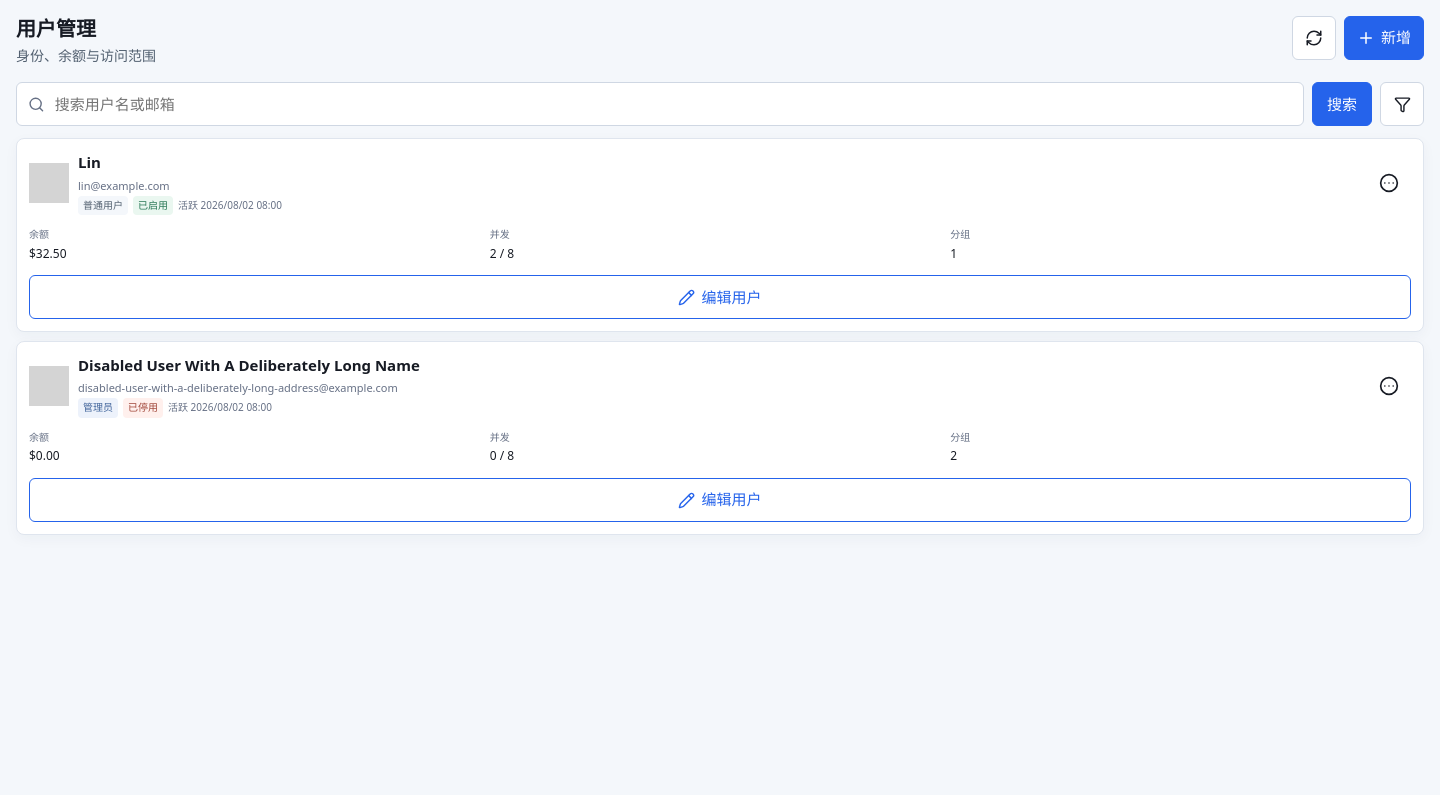
MobileAdminUsersView › invalidates a same-user detail request when the drawer closes and reopens
Step 1. Click the button with test id "user-menu-trigger-7" → [1389, 183], box [1367,161,1411,205]
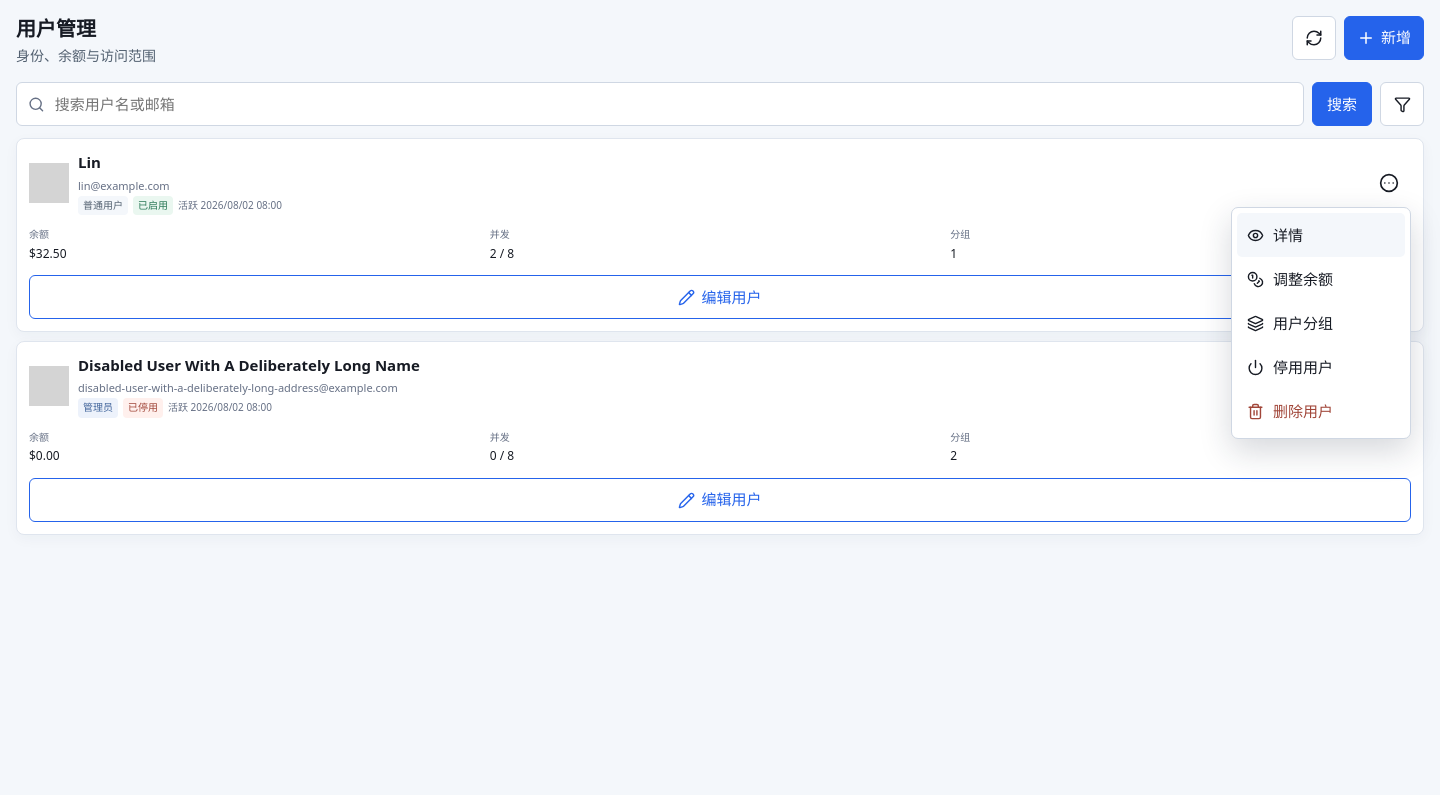
Step 2. Click the menu item with test id "detail-user-7" → [1321, 235], box [1237,213,1405,257]
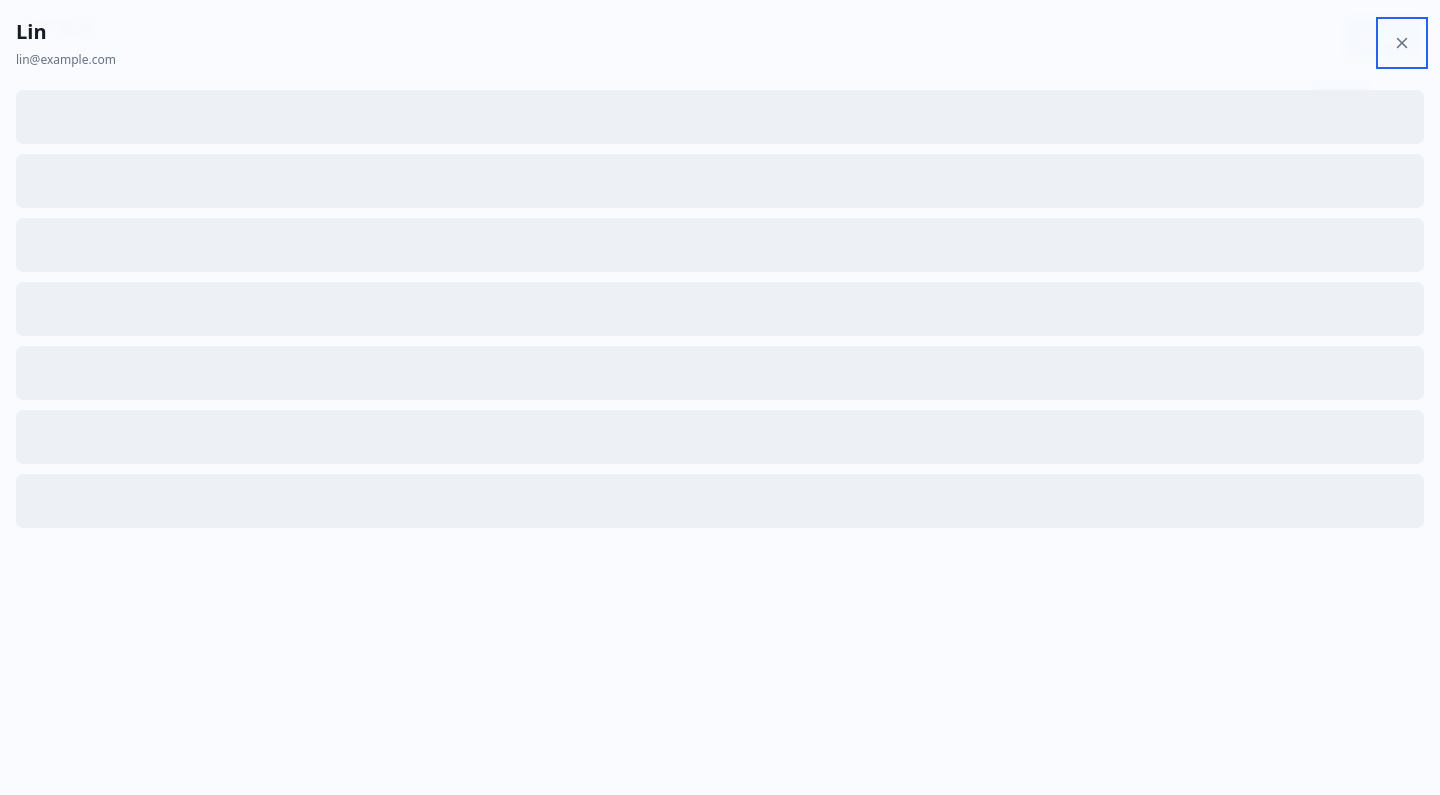
Step 3. Click the button named "关闭" → [1402, 43], box [1380,21,1424,65]
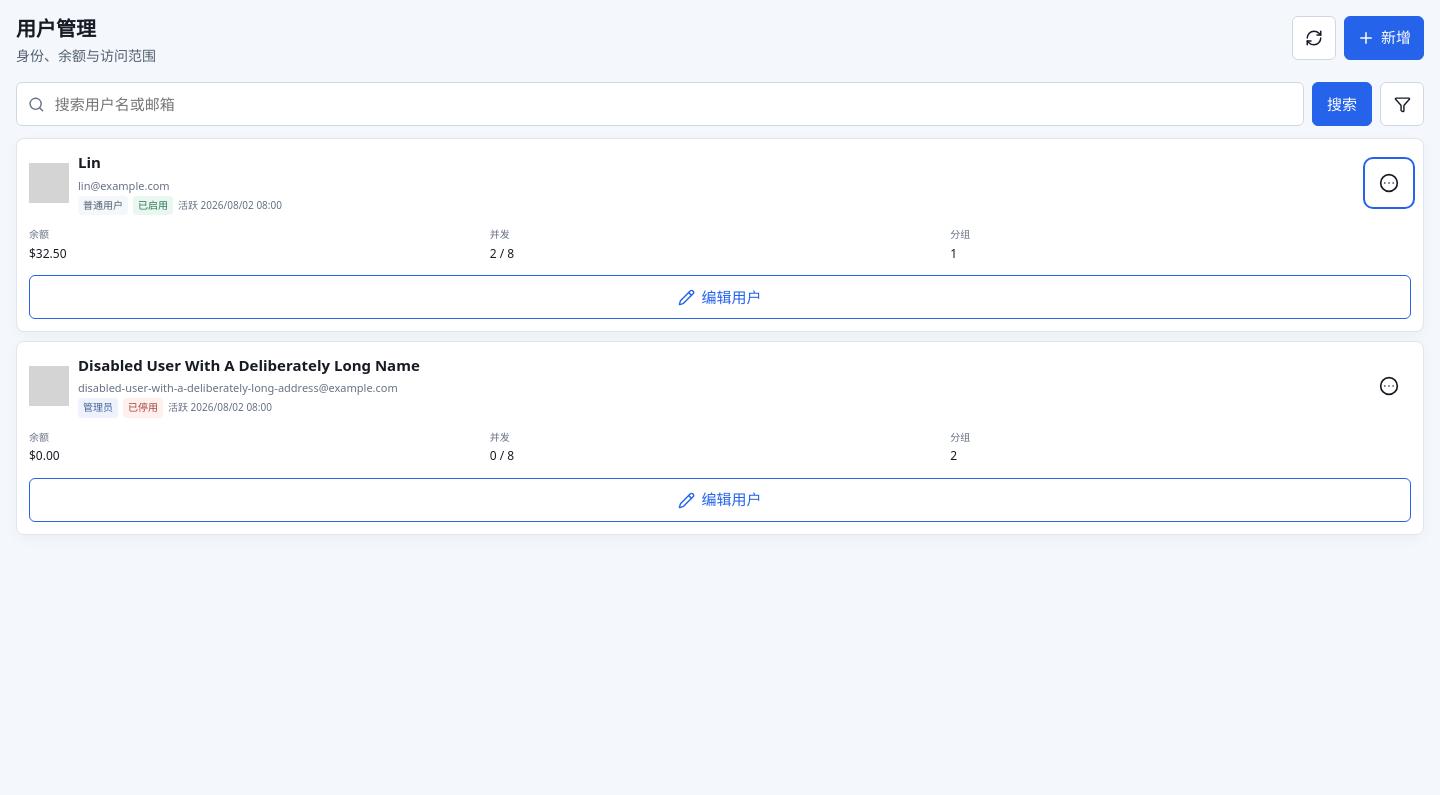
Step 4. Click the button with test id "user-menu-trigger-7" → [1389, 183], box [1367,161,1411,205]
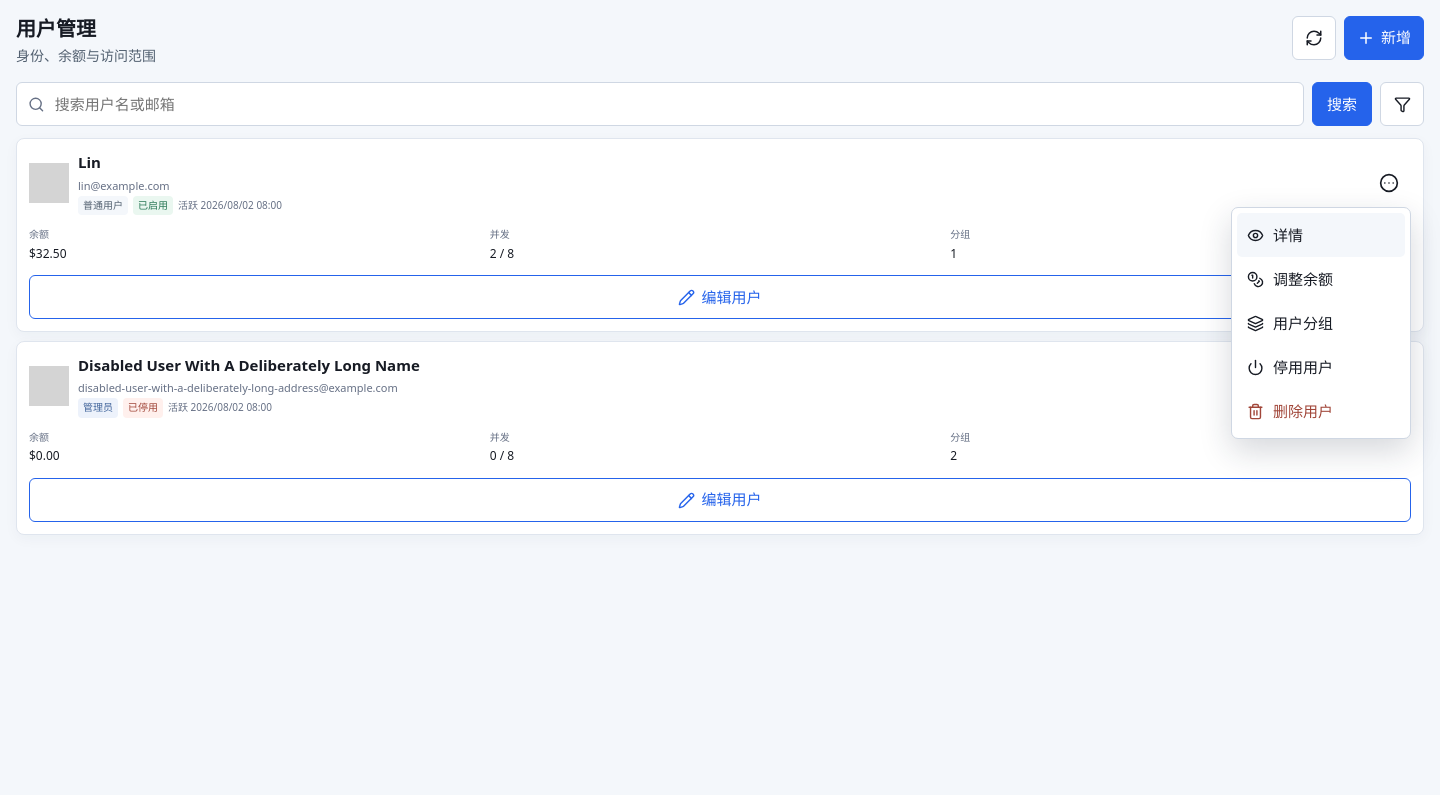
Step 5. Click the menu item with test id "detail-user-7" → [1321, 235], box [1237,213,1405,257]
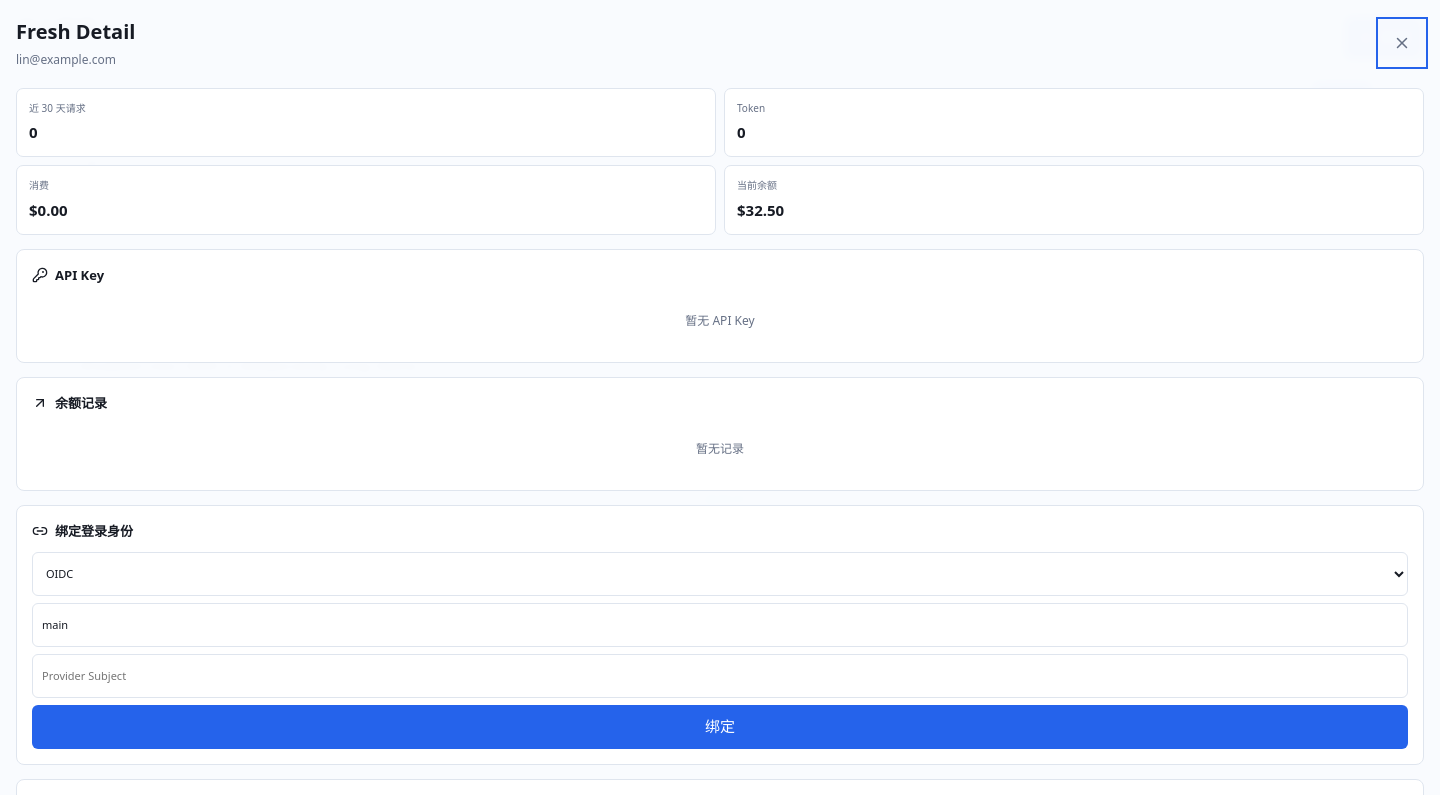
Result: the heading with id "user-detail-title" reads "Fresh Detail" at [16,18,135,45]
